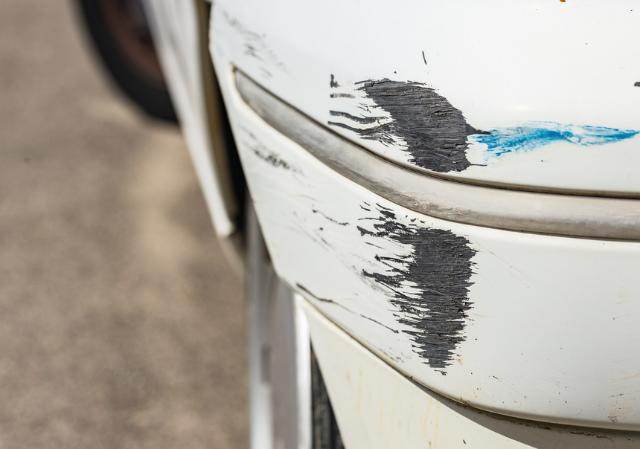Bumper: (218, 6, 640, 449)
